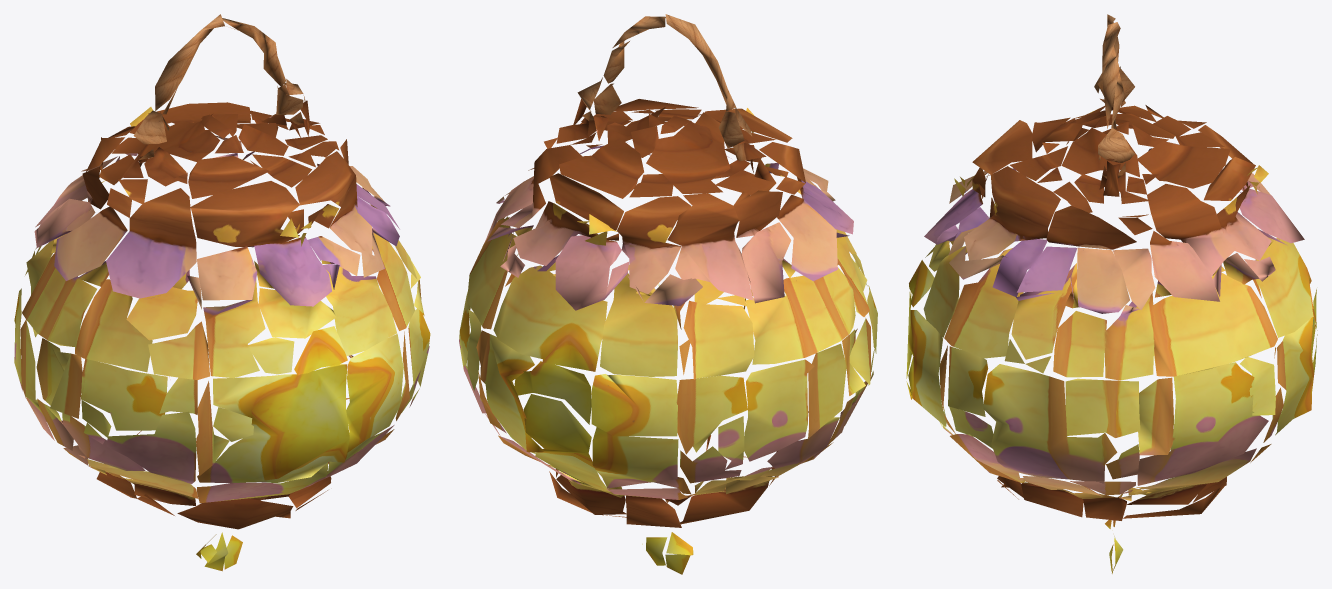
The model's file is prop_lantern.glb.
3 renders of one model, left to right at view 1: azimuth 30°, elevation 25°; view 2: azimuth 150°, elevation 25°; view 3: azimuth 270°, elevation 25°, orthographic.
Parts seen in each view (by area): view 1: Prop; view 2: Prop; view 3: Prop.
Boxes of the visible parts, bbox=[...] form: Prop: bbox=[14, 14, 430, 571]; Prop: bbox=[459, 14, 877, 574]; Prop: bbox=[906, 14, 1317, 573].
Bounding box in the file's own units: 0.6813 × 0.9862 × 0.664.
1 material, 1 textured.
